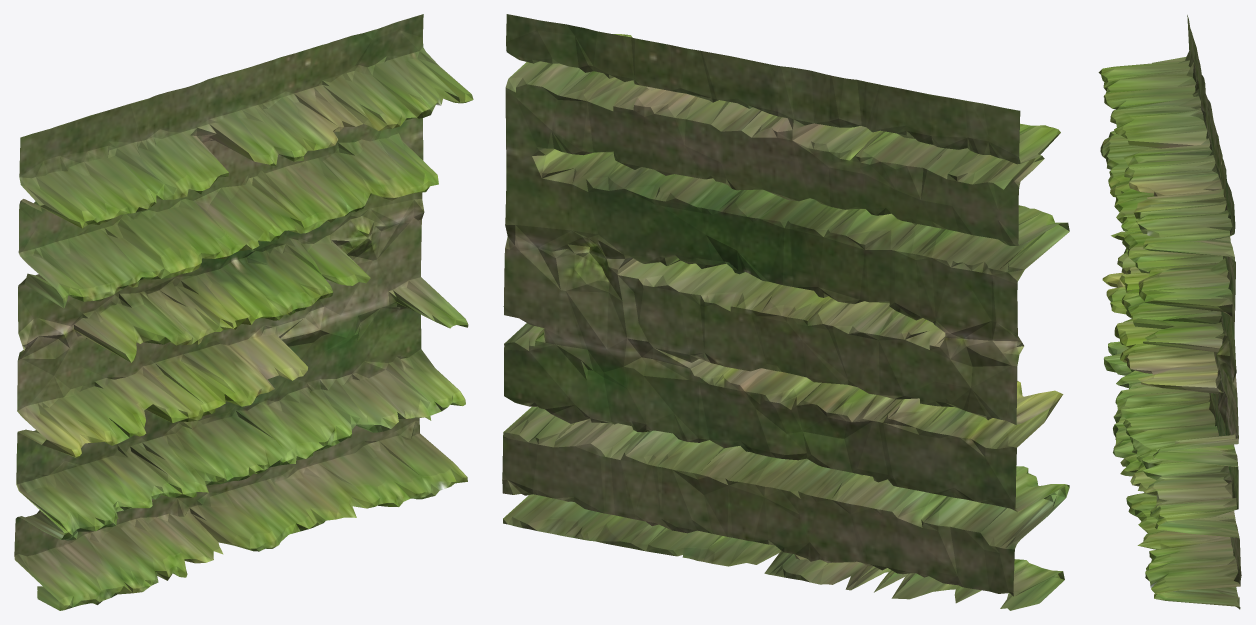
File: map_90_70.obj
The picture shows the model from 3 angles, left to right: view 1: azimuth 30°, elevation 25°; view 2: azimuth 150°, elevation 25°; view 3: azimuth 270°, elevation 25°; orthographic projection. The views are drawn at different scales.
Parts seen in each view (by area): view 1: grp1; view 2: grp1; view 3: grp1.
Boxes of the visible parts, x1,y1,x2,y2 form: grp1: [14, 14, 473, 610]; grp1: [502, 14, 1069, 610]; grp1: [1098, 15, 1241, 609].
Bounding box in the file's own units: 10 × 10 × 3.19.
Materials: 1 (1 with a texture image).
